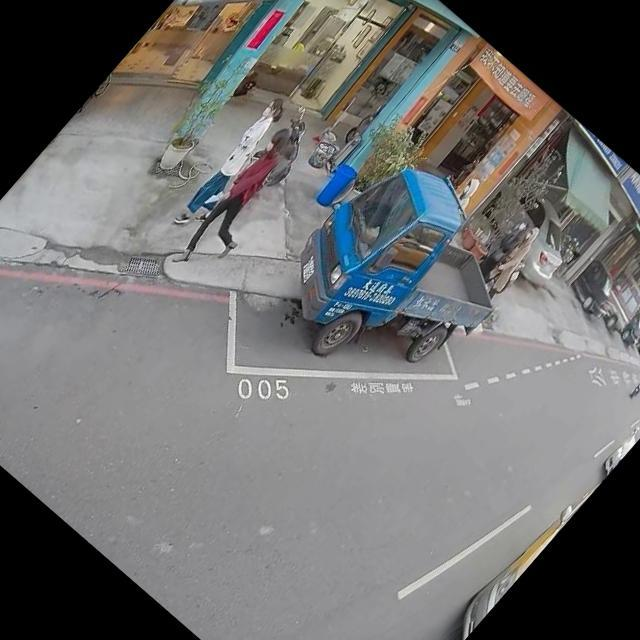person: (158, 109, 325, 289), (170, 96, 294, 235), (476, 222, 550, 302), (474, 213, 536, 281), (446, 171, 490, 217)
